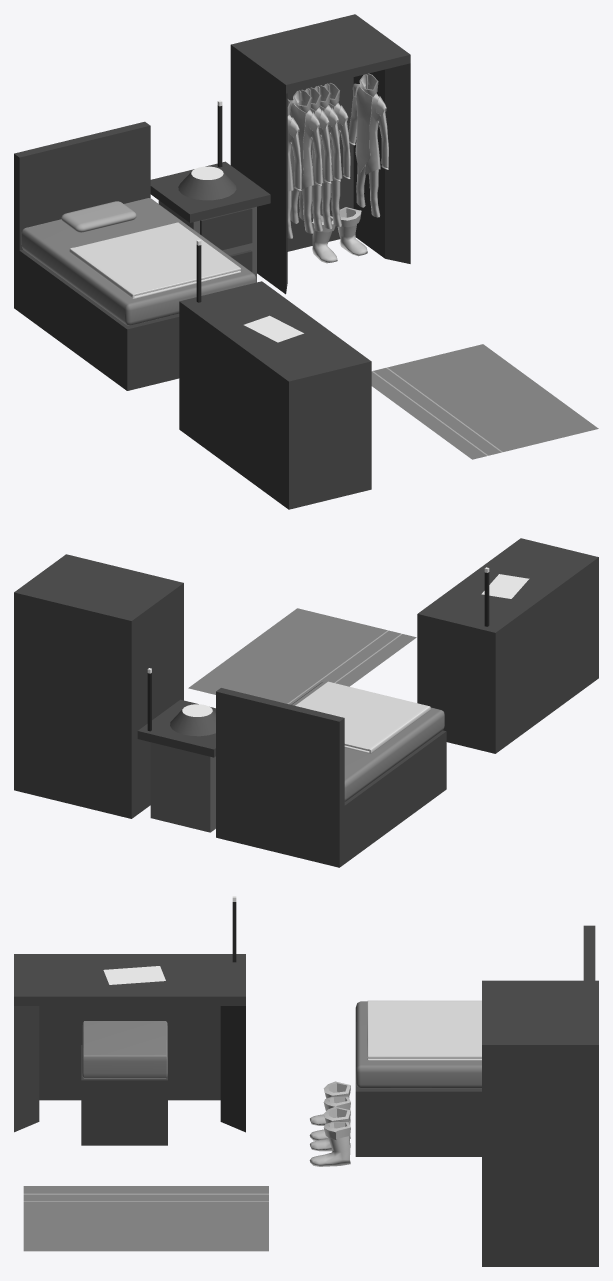
Rendered from Orellian_Dressing.fbx.
3 renders of one model, top to bottom at view 1: azimuth 30°, elevation 25°; view 2: azimuth 150°, elevation 25°; view 3: azimuth 270°, elevation 25°, orthographic. The views are drawn at different scales.
Parts seen in each view (by area): view 1: Orellian_Bed_01, Orellian_Closet_01, Orellian_Desk_01, Orellian_Rug_01, Orellian_Nighstand_01, Orellian_Boots_02, Orellian_TV_01; view 2: Orellian_Closet_01, Orellian_Bed_01, Orellian_Desk_01, Orellian_Rug_01, Orellian_Nighstand_01, Orellian_TV_01; view 3: Orellian_Closet_01, Orellian_Desk_01, Orellian_Bed_01, Orellian_Rug_01, Orellian_Chair1, Orellian_Boots_01, Orellian_Boots_03.
Boxes of the visible parts, bbox=[...] form: Orellian_Bed_01: bbox=[14, 121, 256, 390]; Orellian_Closet_01: bbox=[230, 14, 410, 294]; Orellian_Desk_01: bbox=[179, 239, 371, 509]; Orellian_Rug_01: bbox=[371, 344, 598, 459]; Orellian_Nighstand_01: bbox=[150, 100, 270, 282]; Orellian_Boots_02: bbox=[312, 207, 367, 263]; Orellian_TV_01: bbox=[178, 166, 236, 200]; Orellian_Closet_01: bbox=[14, 554, 183, 818]; Orellian_Bed_01: bbox=[216, 681, 446, 867]; Orellian_Desk_01: bbox=[417, 538, 598, 753]; Orellian_Rug_01: bbox=[188, 608, 416, 704]; Orellian_Nighstand_01: bbox=[137, 668, 215, 832]; Orellian_TV_01: bbox=[170, 704, 215, 736]; Orellian_Closet_01: bbox=[482, 980, 598, 1266]; Orellian_Desk_01: bbox=[14, 896, 245, 1132]; Orellian_Bed_01: bbox=[355, 925, 595, 1156]; Orellian_Rug_01: bbox=[23, 1186, 268, 1251]; Orellian_Chair1: bbox=[81, 1021, 167, 1145]; Orellian_Boots_01: bbox=[309, 1106, 350, 1166]; Orellian_Boots_03: bbox=[309, 1081, 350, 1140].
Bounding box in the file's own units: 5.82 × 3.44 × 8.12.
